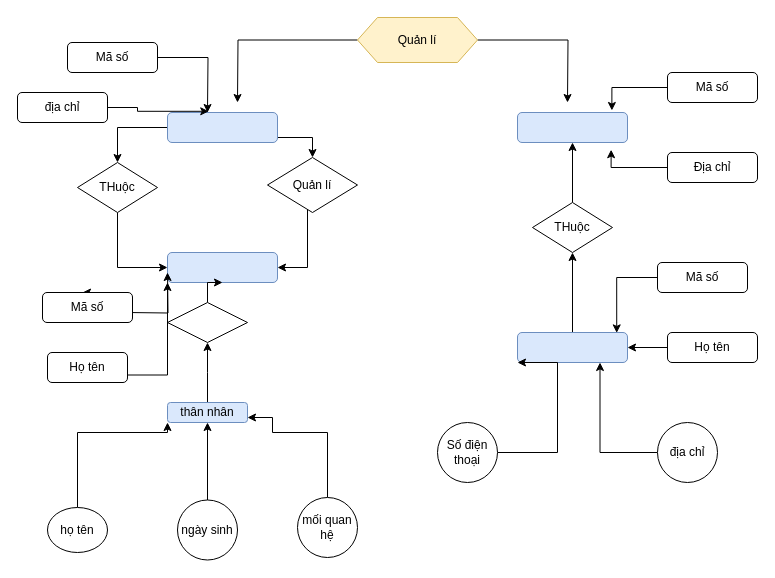
The diagram is 775 pixels wide and 578 high, and some of its shapes have lost their labels. Each missing label, with the centre of its shape:
"Bất động sản" goes at point (572, 127).
"Chủ sở hữu" goes at point (572, 347).
"có" goes at point (207, 322).
"Nhân viên" goes at point (222, 267).
"Văn Phòng" goes at point (222, 127).
